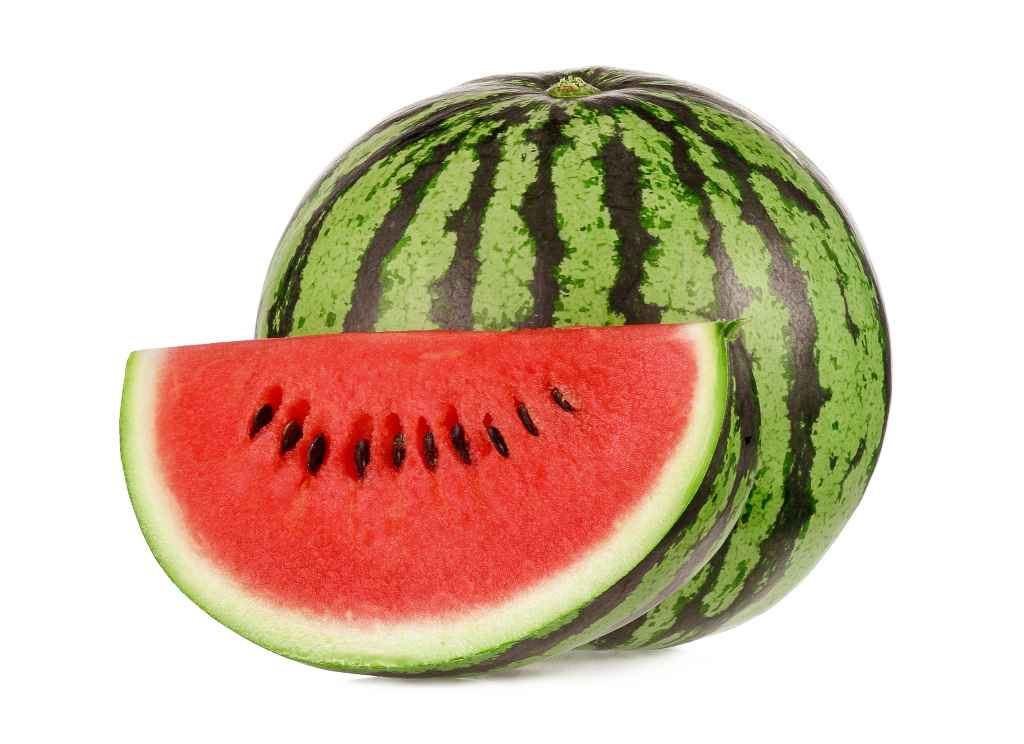Semangka: (126, 190, 669, 733)
